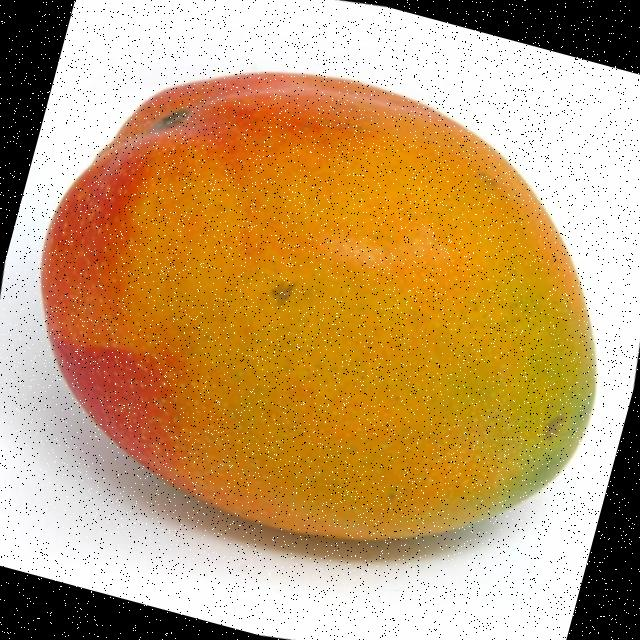mango: (40, 72, 595, 541)
